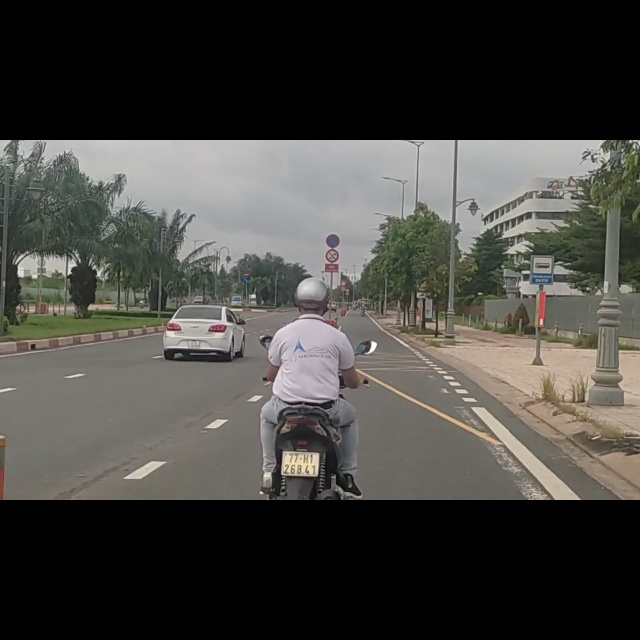bien_hieu_lenh: (528, 204, 555, 260), (324, 194, 340, 218), (325, 167, 340, 191)
